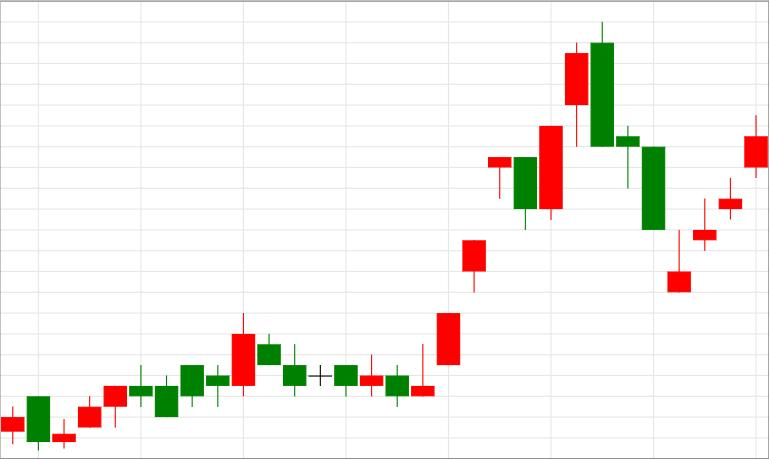bearish_engulfing_fall: (411, 21, 614, 397)
inverse_hammer_rise: (591, 21, 691, 293)
